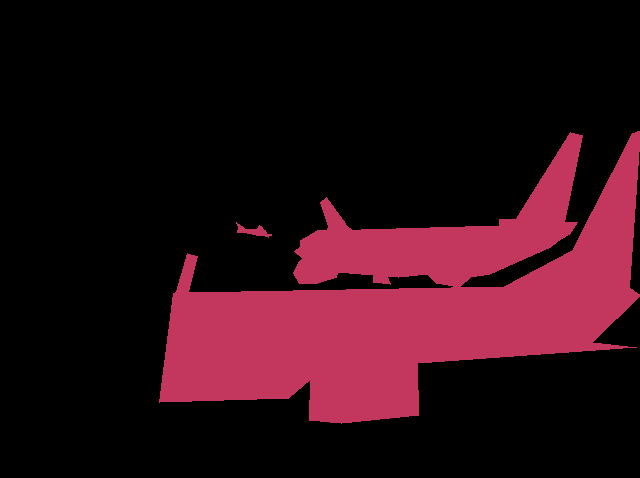Airplane: (159, 130, 640, 423), (293, 132, 582, 287), (320, 197, 354, 231), (236, 222, 272, 237)
